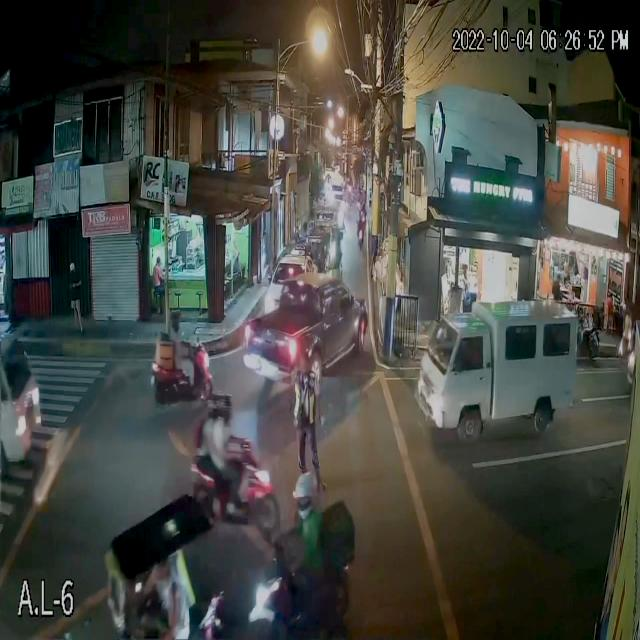Full-Faced: (292, 470, 321, 520), (218, 386, 238, 422), (205, 386, 222, 422), (168, 308, 184, 339)
